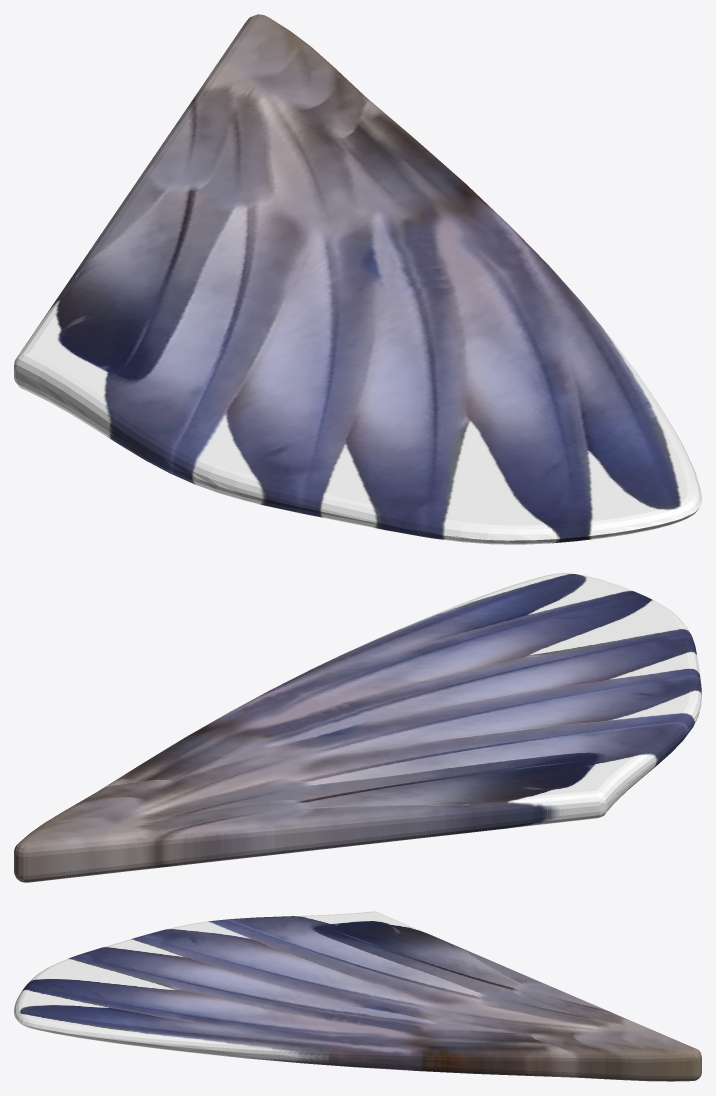
Rendered from right_hand_wing_texture.dae.
3 renders of one model, top to bottom at view 1: azimuth 30°, elevation 25°; view 2: azimuth 150°, elevation 25°; view 3: azimuth 270°, elevation 25°, orthographic. The views are drawn at different scales.
Visible parts, largest first — view 1: node; view 2: node; view 3: node.
Boxes of the visible parts, left/top/right/bottom form: node: left=14, top=14, right=701, bottom=544; node: left=14, top=573, right=701, bottom=882; node: left=14, top=911, right=701, bottom=1081.
Bounding box in the file's own units: 4.66 × 0.4541 × 9.01.
1 material, 1 textured.
